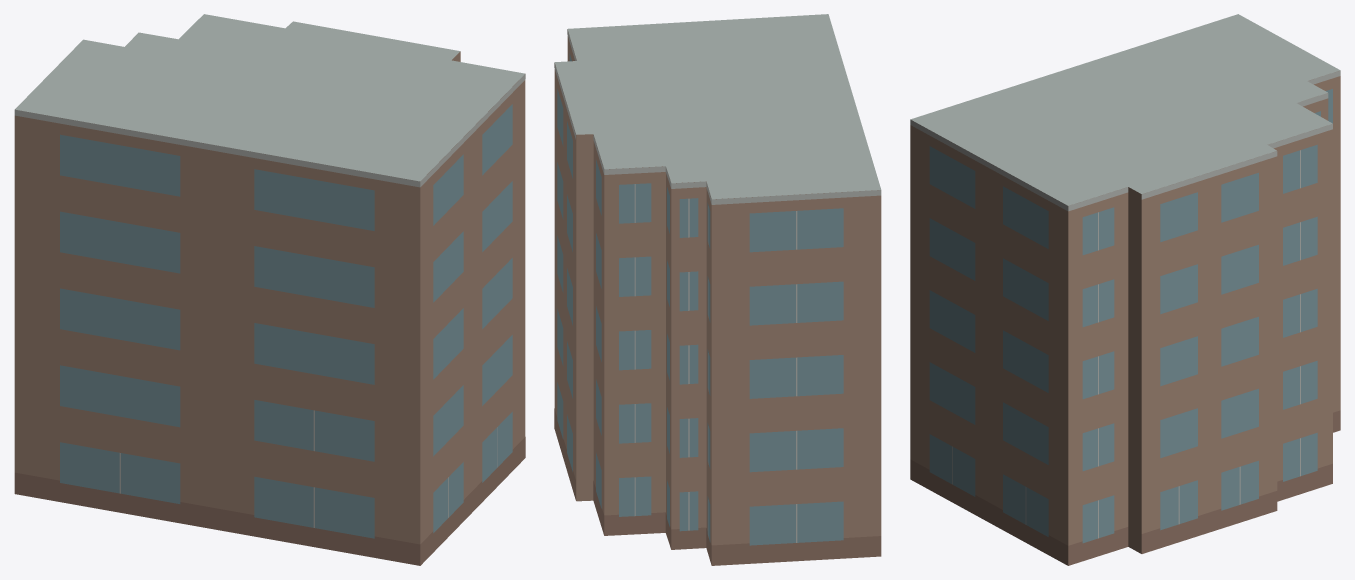
The model's file is survey-upis-32674923.glb.
3 renders of one model, left to right at view 1: azimuth 30°, elevation 25°; view 2: azimuth 150°, elevation 25°; view 3: azimuth 270°, elevation 25°, orthographic. The views are drawn at different scales.
Parts seen in each view (by area): view 1: survey-upis-32674923.tmp; view 2: survey-upis-32674923.tmp; view 3: survey-upis-32674923.tmp.
Boxes of the visible parts, left/top/right/bottom form: survey-upis-32674923.tmp: left=14, top=14, right=525, bottom=565; survey-upis-32674923.tmp: left=554, top=14, right=881, bottom=565; survey-upis-32674923.tmp: left=910, top=14, right=1340, bottom=565.
Bounding box in the file's own units: 18.07 × 15.8 × 17.13.
